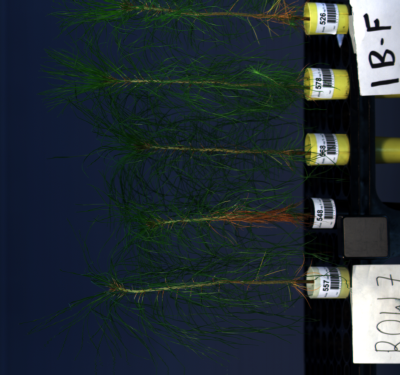tube: (301, 2, 349, 36), (304, 264, 352, 298), (303, 195, 351, 229), (302, 132, 350, 166), (302, 67, 350, 101)
